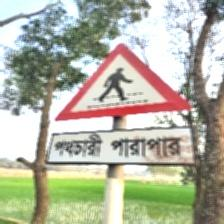Pedestrian-crossing: (49, 41, 196, 168)
